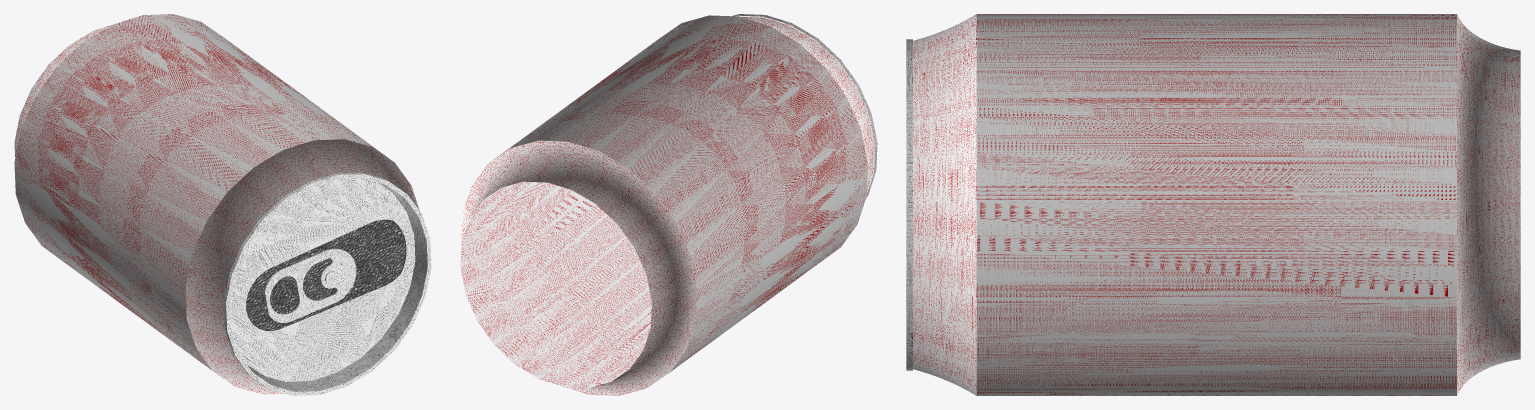
File: model_scale.obj
The picture shows the model from 3 angles, left to right: view 1: azimuth 30°, elevation 25°; view 2: azimuth 150°, elevation 25°; view 3: azimuth 270°, elevation 25°; orthographic projection. The views are drawn at different scales.
Parts seen in each view (by area): view 1: mesh1_mesh1-geometry, mesh2_mesh2-geometry; view 2: mesh1_mesh1-geometry; view 3: mesh1_mesh1-geometry.
Boxes of the visible parts, box(x1,y1,x2,y2) form: mesh1_mesh1-geometry: box(14, 14, 431, 395); mesh2_mesh2-geometry: box(264, 248, 356, 322); mesh1_mesh1-geometry: box(460, 14, 877, 395); mesh1_mesh1-geometry: box(906, 14, 1520, 395).
Bounding box in the file's own units: 0.0712 × 0.0713 × 0.1139.
